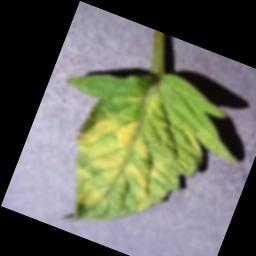Leaf_Mold: (47, 74, 218, 252)
